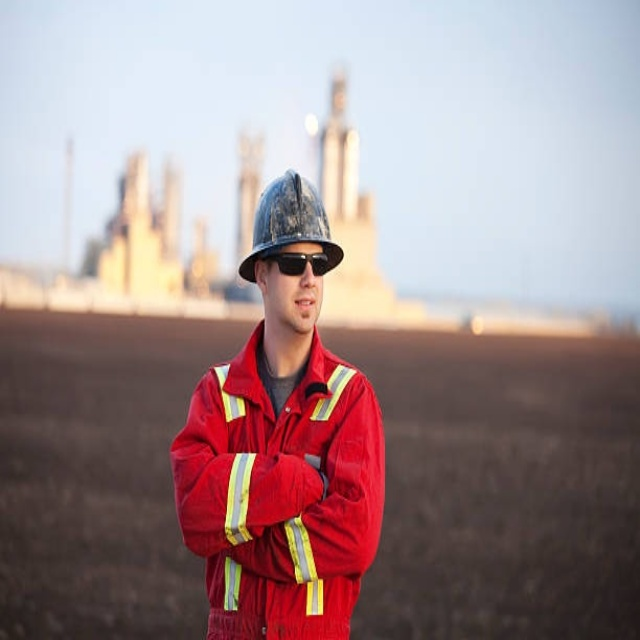Gafas: (266, 252, 330, 277)
Sin_mascara: (290, 292, 320, 328)
